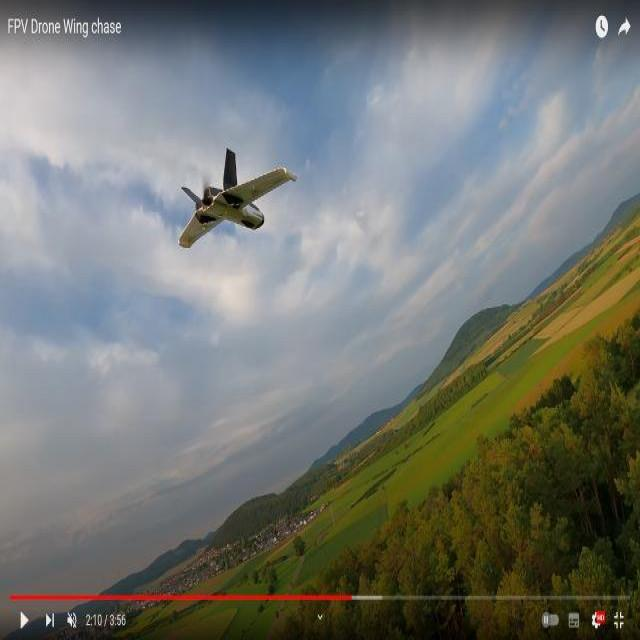iha: (208, 181, 261, 205)
